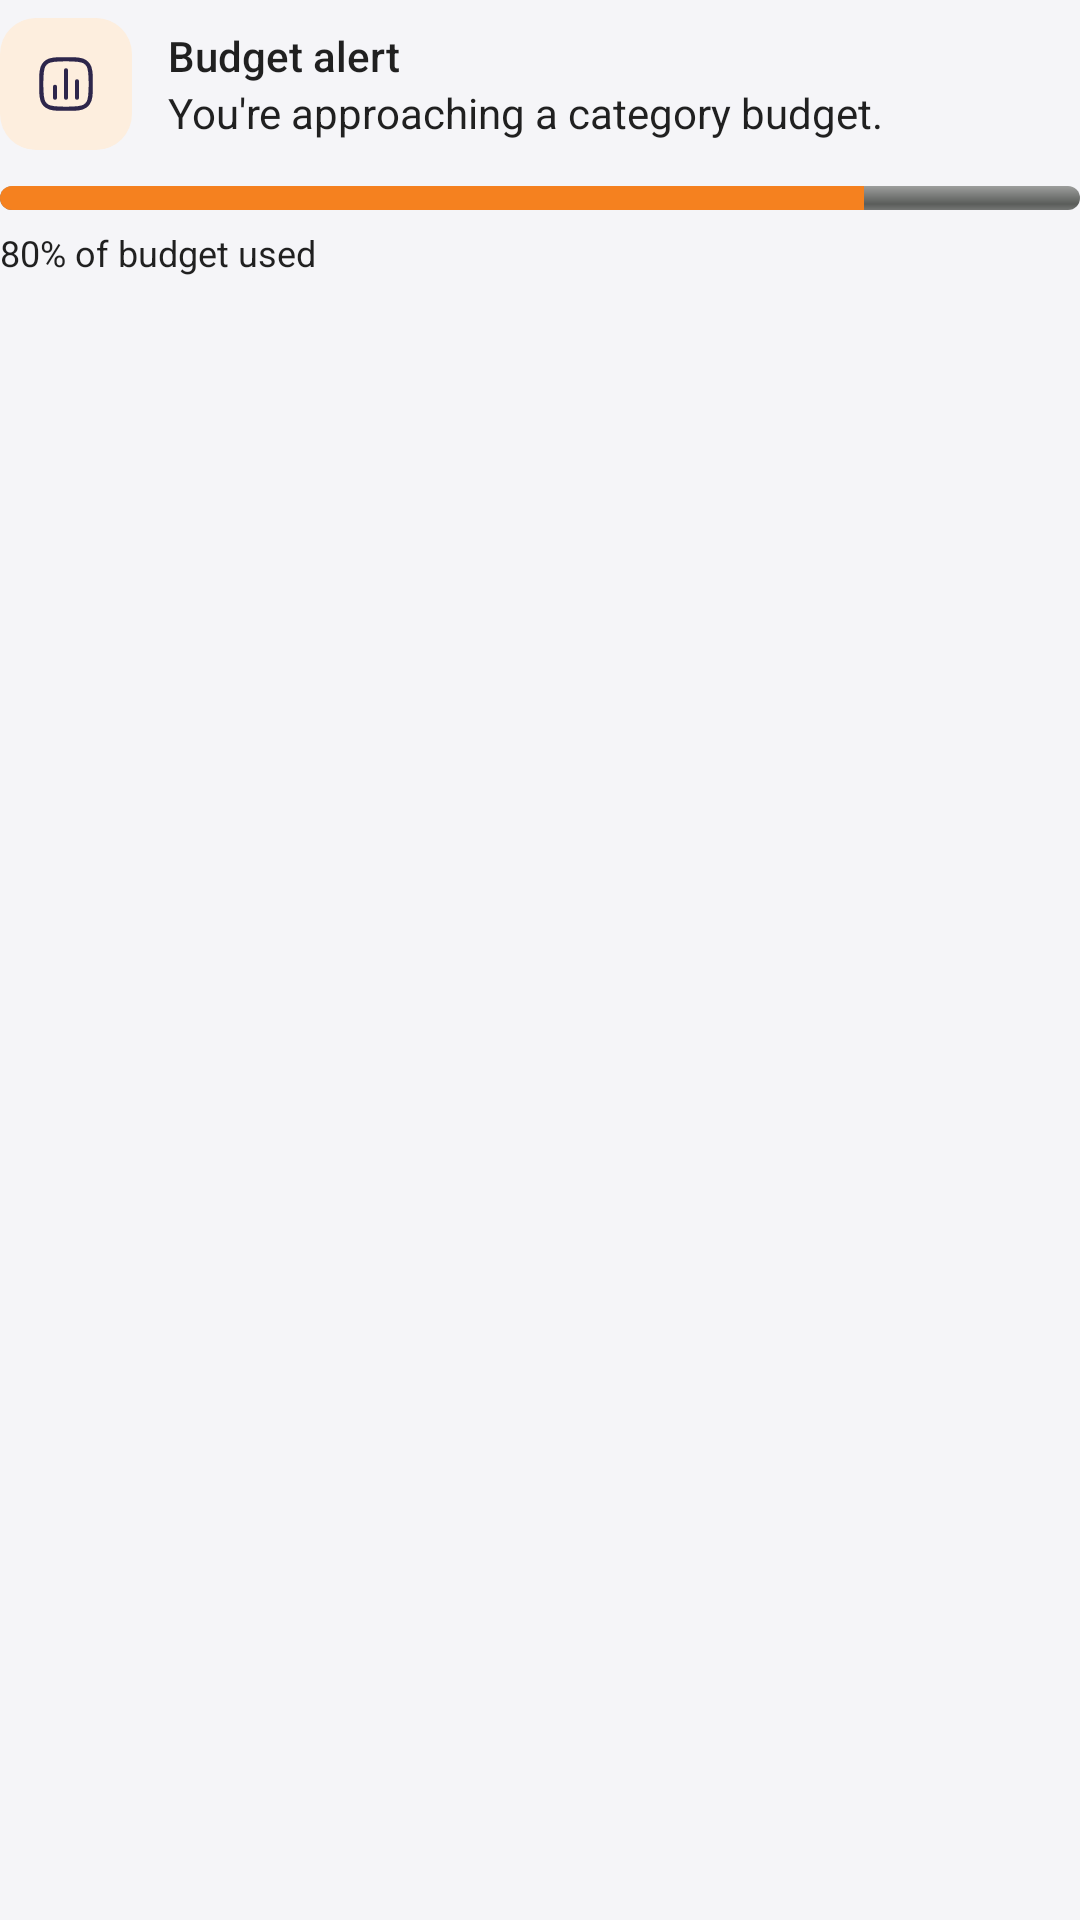

Icon bounding boxes for this 1080*1920 phone screenshot, format (x1, y1, x2, y2):
chart: (0, 18, 132, 150)
